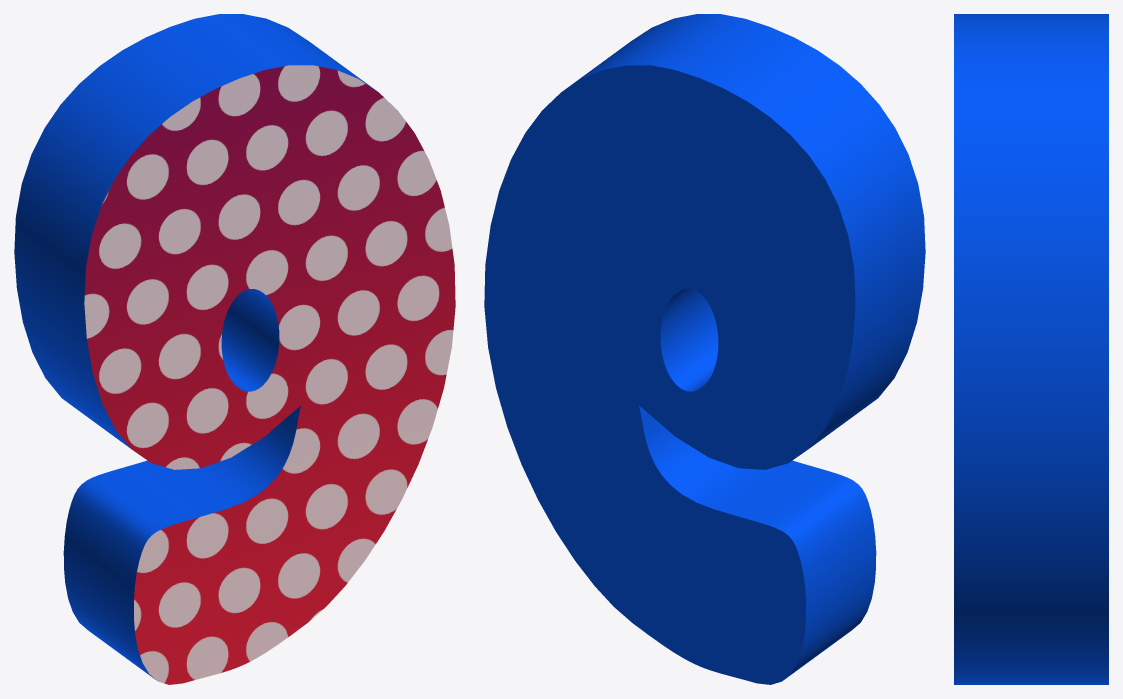
The picture shows the model from 3 angles, left to right: view 1: azimuth 30°, elevation 25°; view 2: azimuth 150°, elevation 25°; view 3: azimuth 270°, elevation 25°; orthographic projection. The views are drawn at different scales.
Parts seen in each view (by area): view 1: 9; view 2: 9; view 3: 9.
Boxes of the visible parts, x1,y1,x2,y2 form: 9: (14,14,455,684); 9: (484,14,925,684); 9: (954,14,1108,684).
Size of the model in its own units: 61.21 by 93.5 by 20.
2 materials, 1 textured.
